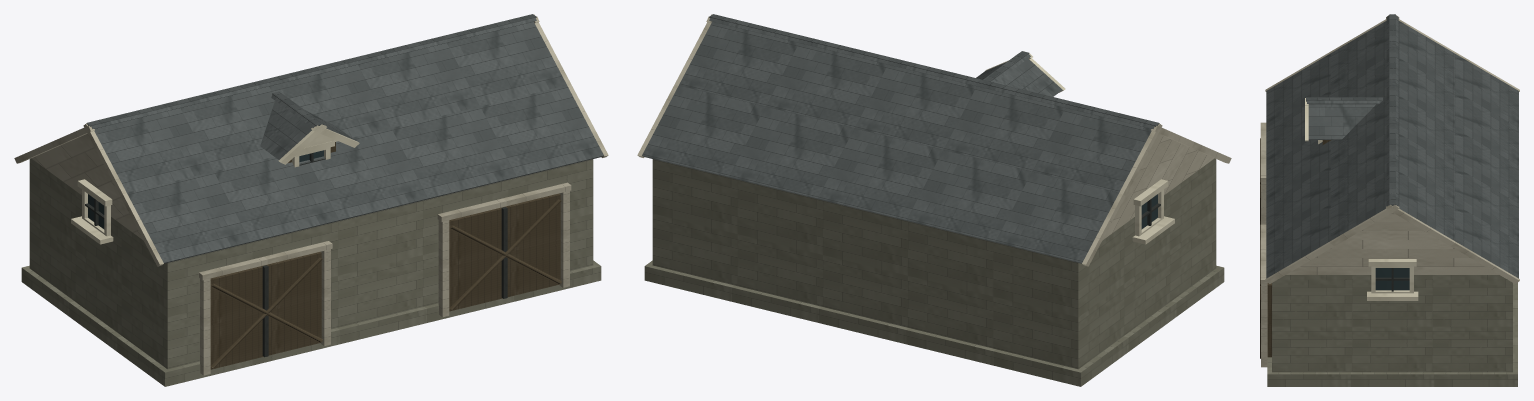
The model's file is country-barn-stone.glb.
3 views of the same model, side by side, from view 1: azimuth 30°, elevation 25°; view 2: azimuth 150°, elevation 25°; view 3: azimuth 270°, elevation 25° (orthographic). The views are drawn at different scales.
Parts seen in each view (by area): view 1: country-barn-stone.001; view 2: country-barn-stone.001; view 3: country-barn-stone.001.
Boxes of the visible parts, x1,y1,x2,y2 form: country-barn-stone.001: (14,14,608,386); country-barn-stone.001: (637,14,1231,386); country-barn-stone.001: (1260,14,1519,386).
Size of the model in its own units: 9 by 4.02 by 5.13.
1 material, 1 textured.
